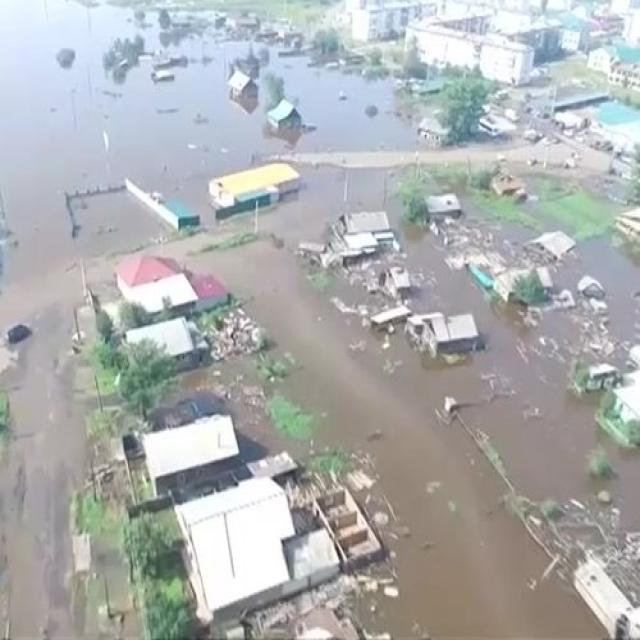flooded_areas: (0, 41, 590, 638)
